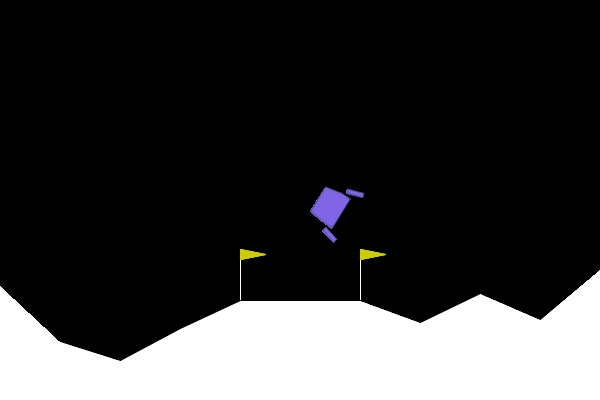lander: (300, 173, 366, 245)
